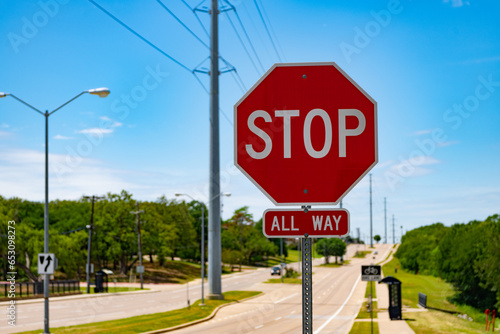StopSign: (232, 62, 378, 205)
